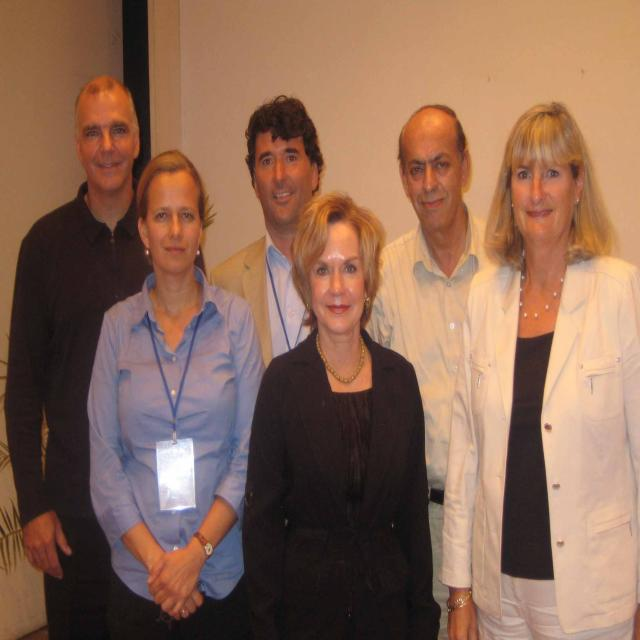body: (2, 72, 209, 640), (433, 94, 640, 640), (234, 185, 448, 640), (81, 140, 269, 640), (363, 102, 489, 640), (205, 90, 326, 375)
